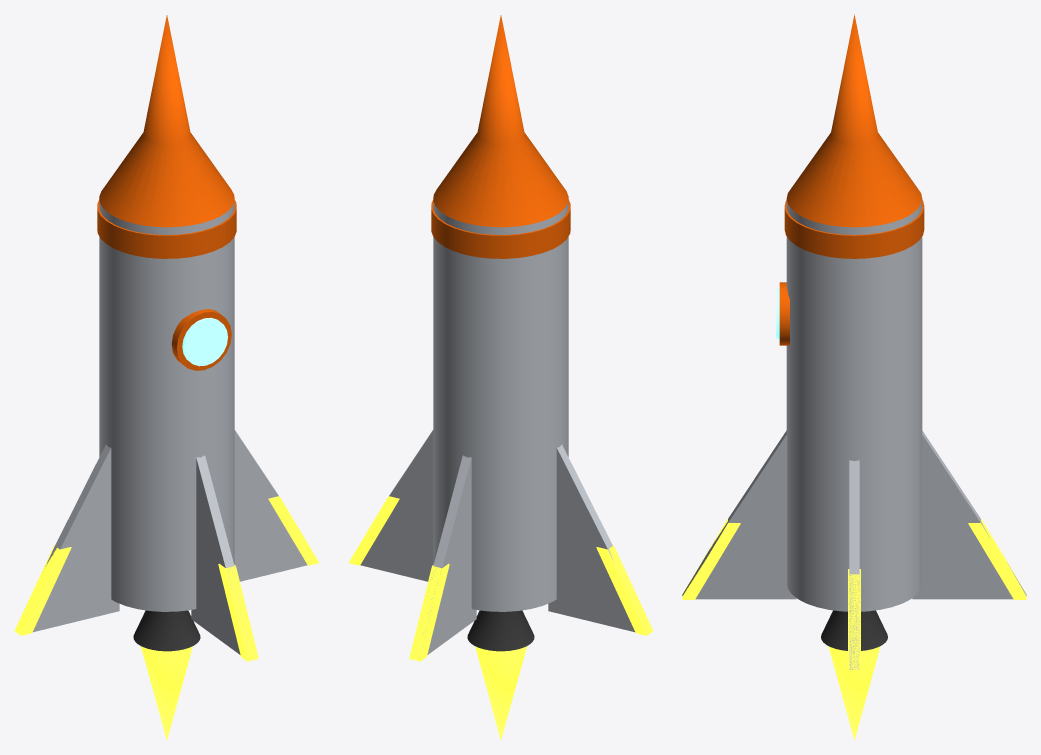
File: Rocket_13_SilverArrow.fbx
The picture shows the model from 3 angles, left to right: view 1: azimuth 30°, elevation 25°; view 2: azimuth 150°, elevation 25°; view 3: azimuth 270°, elevation 25°; orthographic projection.
Visible parts, largest first — view 1: R13_Body, R13_Nose, R13_Fin_2, R13_Fin_4, R13_Fin_3, R13_Band_1, R13_Flame_1, R13_Nozzle_1, R13_Window_1, R13_FinGlow_3, R13_FinGlow_2, R13_WindowFrame_1 (+1 smaller); view 2: R13_Body, R13_Nose, R13_Fin_2, R13_Fin_4, R13_Fin_1, R13_Band_1, R13_Flame_1, R13_Nozzle_1, R13_FinGlow_1, R13_FinGlow_2, R13_FinGlow_4; view 3: R13_Body, R13_Nose, R13_Fin_3, R13_Fin_1, R13_Band_1, R13_Flame_1, R13_Fin_4, R13_Nozzle_1, R13_FinGlow_1, R13_FinGlow_4, R13_FinGlow_3, R13_WindowFrame_1.
Part boxes in pixels (x1,y1,x2,y2): R13_Body: [99, 200, 234, 611]; R13_Nose: [99, 15, 234, 227]; R13_Fin_2: [33, 444, 119, 632]; R13_Fin_4: [234, 430, 307, 581]; R13_Fin_3: [191, 455, 240, 654]; R13_Band_1: [97, 199, 236, 258]; R13_Flame_1: [141, 646, 192, 739]; R13_Nozzle_1: [133, 610, 200, 651]; R13_Window_1: [182, 317, 227, 366]; R13_FinGlow_3: [218, 563, 258, 661]; R13_FinGlow_2: [14, 545, 71, 635]; R13_WindowFrame_1: [171, 309, 231, 370]; R13_Body: [433, 200, 568, 611]; R13_Nose: [433, 15, 568, 227]; R13_Fin_2: [548, 444, 634, 632]; R13_Fin_4: [360, 430, 433, 581]; R13_Fin_1: [427, 455, 476, 654]; R13_Band_1: [431, 199, 570, 258]; R13_Flame_1: [475, 646, 526, 739]; R13_Nozzle_1: [467, 610, 534, 651]; R13_FinGlow_1: [409, 563, 449, 661]; R13_FinGlow_2: [596, 545, 653, 635]; R13_FinGlow_4: [349, 496, 399, 565]; R13_Body: [786, 200, 922, 611]; R13_Nose: [786, 14, 922, 227]; R13_Fin_3: [682, 430, 796, 599]; R13_Fin_1: [912, 430, 1026, 599]; R13_Band_1: [784, 200, 924, 258]; R13_Flame_1: [828, 646, 880, 740]; R13_Fin_4: [849, 460, 859, 669]; R13_Nozzle_1: [821, 610, 887, 650]; R13_FinGlow_1: [968, 518, 1026, 599]; R13_FinGlow_4: [848, 569, 860, 669]; R13_FinGlow_3: [682, 518, 740, 599]; R13_WindowFrame_1: [779, 282, 789, 345].
Bounding box in the file's own units: 4.06 × 9.45 × 4.06.
